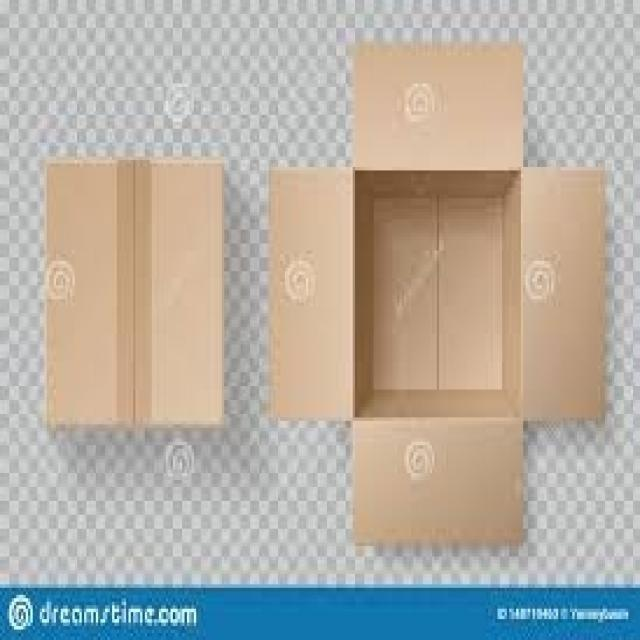cardboard paper: (270, 167, 603, 417), (45, 159, 221, 423), (352, 417, 521, 542), (353, 43, 521, 168), (522, 167, 603, 417)
